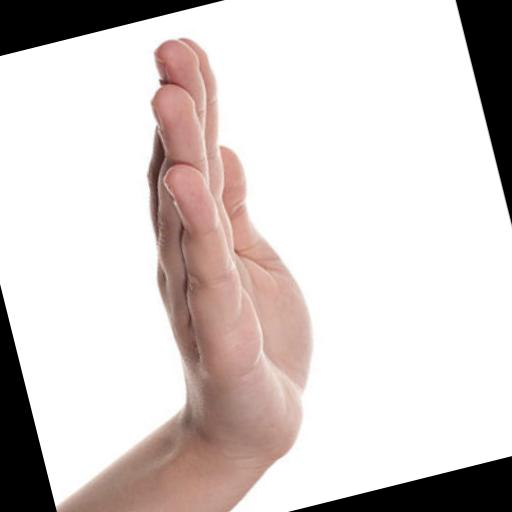Open_Palm: (0, 0, 433, 512)
